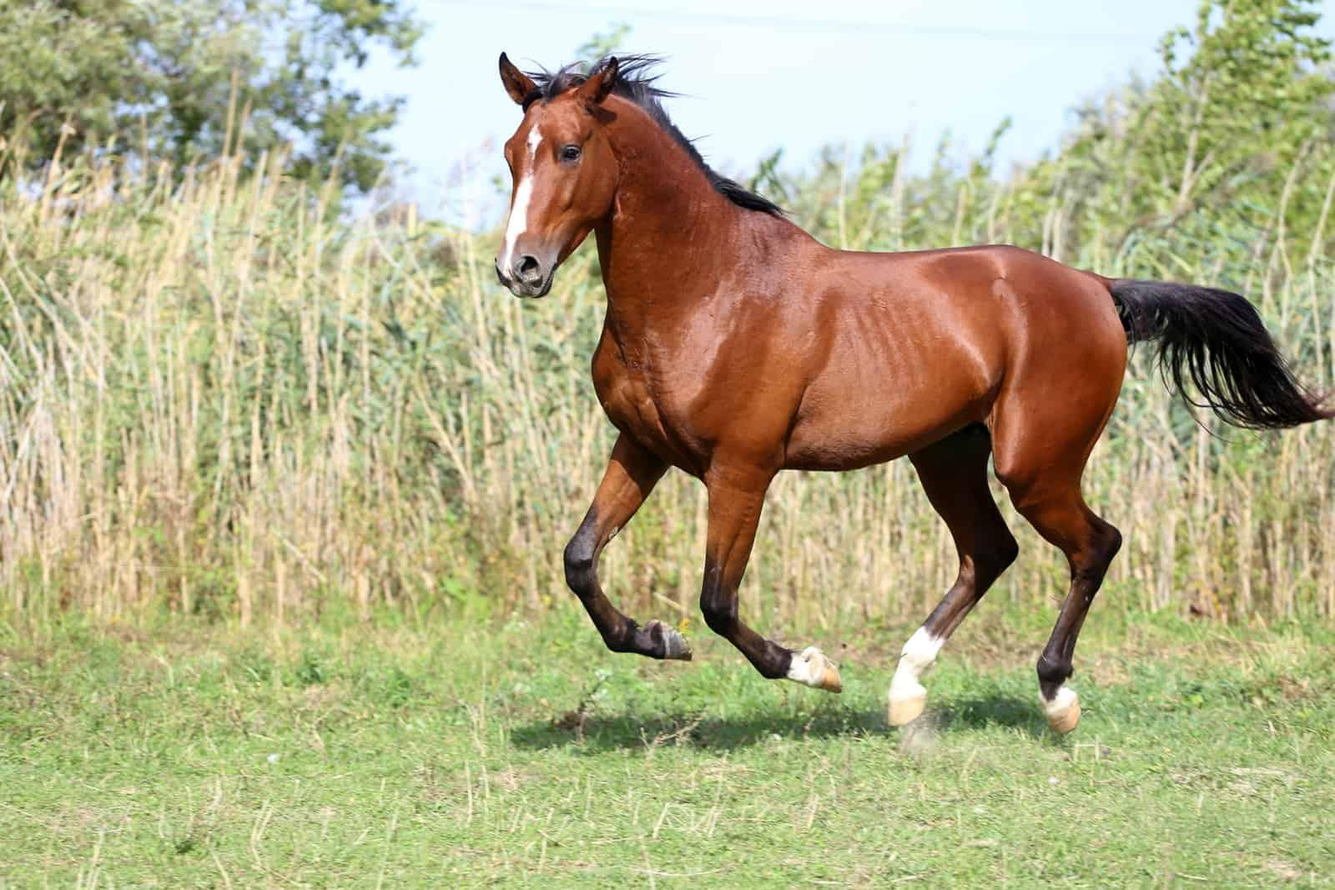horse: (484, 38, 1335, 774)
